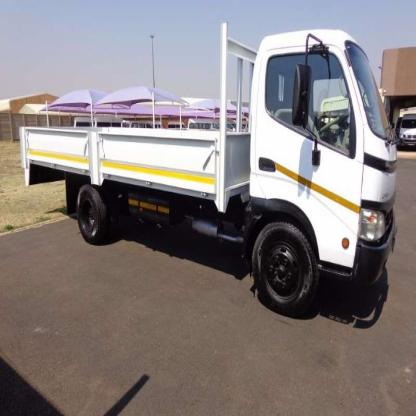dump_truck: (15, 15, 402, 328)
